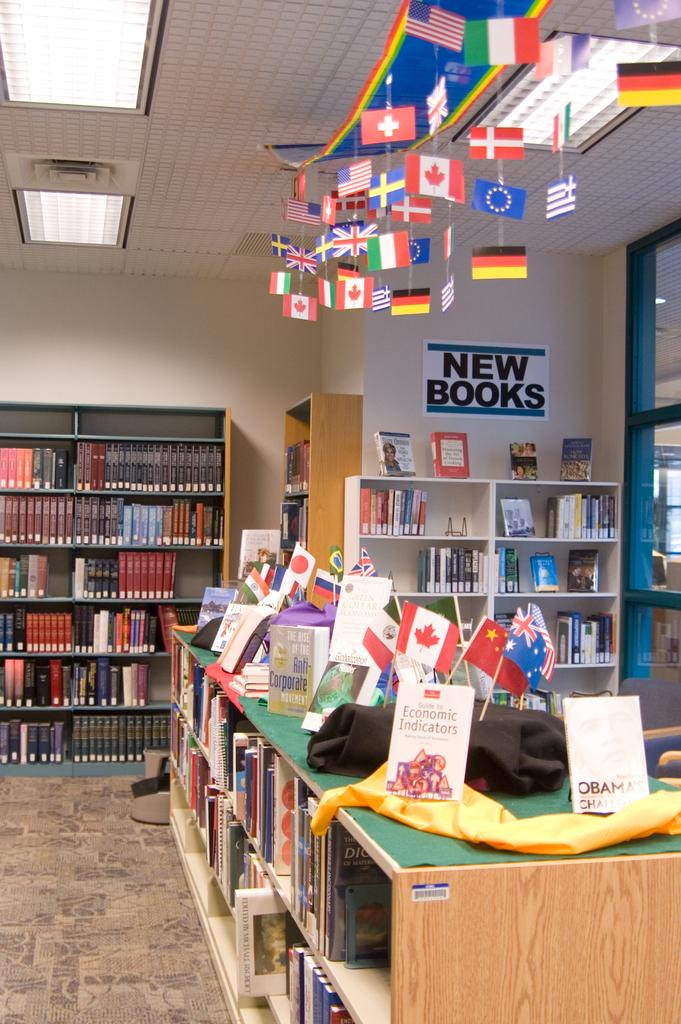Book: (373, 430, 415, 476), (430, 431, 469, 477)
